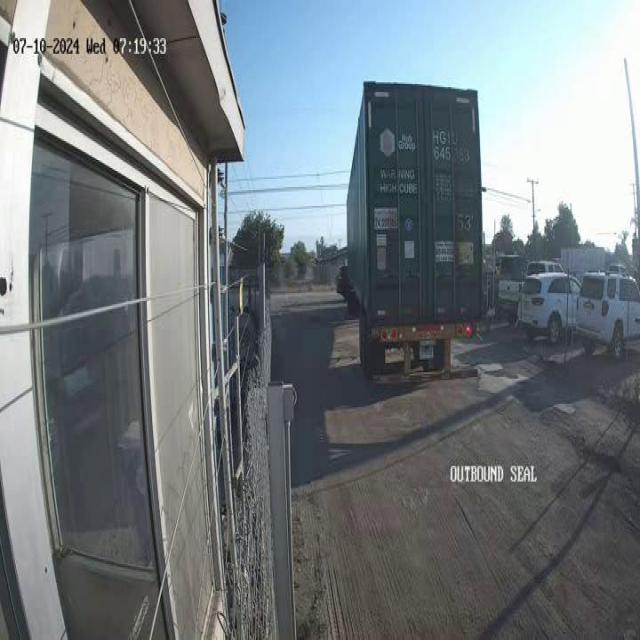CONTAINER: (345, 88, 482, 330)
